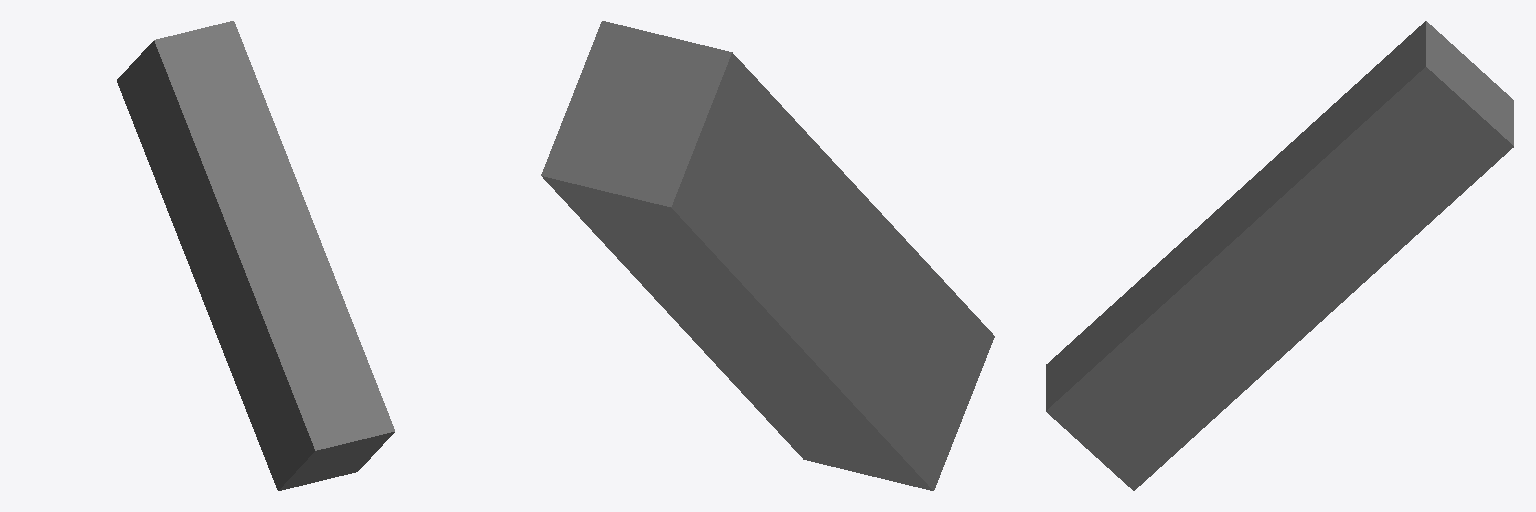
robot.urdf — franka:
<?xml version="1.0" encoding="utf-8"?>
<!--
The original version of this URDF was autogenerated by xacro from a modified version of
panda_arm_hand.urdf.xacro (and its included xacro files), found at
https://github.com/frankaemika/franka_ros/tree/0.6.0/franka_description/robots/

  Copyright (c) 2019-2025 NVIDIA CORPORATION & AFFILIATES. All rights reserved.
  Copyright (c) 2017 Franka Emika GmbH

  Licensed under the Apache License, Version 2.0 (the "License");
  you may not use this file except in compliance with the License.
  You may obtain a copy of the License at

  http://www.apache.org/licenses/LICENSE-2.0

  Unless required by applicable law or agreed to in writing, software
  distributed under the License is distributed on an "AS IS" BASIS,
  WITHOUT WARRANTIES OR CONDITIONS OF ANY KIND, either express or implied.
  See the License for the specific language governing permissions and
  limitations under the License.

Modifications:

2019-11-08 Generated from "lula_franka.urdf.xacro", modified to include links for a RealSense camera and custom mount.
2020-10-26 Modified kinematics so the parent of the "panda_forearm_mid_pt_shifted" joint is "panda_link5", rather than "panda_forearm_mid_pt".
2021-07-02 Expanded the upper and lower limits for "panda_joint7" from +/-1.8973 to +/-2.8973.
2023-08-28 Removed the "mimic" element linking "panda_finger_joint2" to "panda_finger_joint1".
2025-06-12 Modified mesh "filename" attributes to use relative paths rather than ROS package paths.
-->
<robot name="franka" xmlns:xacro="http://www.ros.org/wiki/xacro">
  <material name="aluminum">
    <color rgba="0.5 0.5 0.5 1"/>
  </material>
  <!-- camera body, with origin at bottom screw mount -->
  <joint name="camera_joint" type="fixed">
    <origin rpy="0 -1.57079632679 3.14159265359" xyz="0.0358116 0 0.0360562"/>
    <parent link="panda_hand"/>
    <child link="camera_bottom_screw_frame"/>
  </joint>
  <link name="camera_bottom_screw_frame"/>
  <joint name="camera_link_joint" type="fixed">
    <origin rpy="0 0 0" xyz="0 0.02 0.0115"/>
    <parent link="camera_bottom_screw_frame"/>
    <child link="camera_link"/>
  </joint>
  <link name="camera_link">
    <visual>
      <origin rpy="1.57079632679 0 1.57079632679" xyz="0.00987 -0.02 0"/>
      <geometry>
        <box size="0.099 0.023 0.02005"/>
        <!--<mesh filename="package://realsense2_camera/meshes/d415.stl" />-->
      </geometry>
      <material name="aluminum"/>
    </visual>
    <collision>
      <origin rpy="0 0 0" xyz="0 -0.02 0"/>
      <geometry>
        <box size="0.02005 0.099 0.023"/>
      </geometry>
    </collision>
    <inertial>
      <!-- The following are not reliable values, and should not be used for modeling -->
      <mass value="0.564"/>
      <origin xyz="0 0 0"/>
      <inertia ixx="0.003881243" ixy="0.0" ixz="0.0" iyy="0.000498940" iyz="0.0" izz="0.003879257"/>
    </inertial>
  </link>
  <!-- camera depth joints and links -->
  <joint name="camera_depth_joint" type="fixed">
    <origin rpy="0 0 0" xyz="0 0 0"/>
    <parent link="camera_link"/>
    <child link="camera_depth_frame"/>
  </joint>
  <link name="camera_depth_frame"/>
  <joint name="camera_depth_optical_joint" type="fixed">
    <origin rpy="-1.57079632679 0 -1.57079632679" xyz="0 0 0"/>
    <parent link="camera_depth_frame"/>
    <child link="camera_depth_optical_frame"/>
  </joint>
  <link name="camera_depth_optical_frame"/>
  <!-- camera left IR joints and links -->
  <joint name="camera_left_ir_joint" type="fixed">
    <origin rpy="0 0 0" xyz="0 0.0 0"/>
    <parent link="camera_depth_frame"/>
    <child link="camera_left_ir_frame"/>
  </joint>
  <link name="camera_left_ir_frame"/>
  <joint name="camera_left_ir_optical_joint" type="fixed">
    <origin rpy="-1.57079632679 0 -1.57079632679" xyz="0 0 0"/>
    <parent link="camera_left_ir_frame"/>
    <child link="camera_left_ir_optical_frame"/>
  </joint>
  <link name="camera_left_ir_optical_frame"/>
  <!-- camera right IR joints and links -->
  <joint name="camera_right_ir_joint" type="fixed">
    <origin rpy="0 0 0" xyz="0 -0.055 0"/>
    <parent link="camera_depth_frame"/>
    <child link="camera_right_ir_frame"/>
  </joint>
  <link name="camera_right_ir_frame"/>
  <joint name="camera_right_ir_optical_joint" type="fixed">
    <origin rpy="-1.57079632679 0 -1.57079632679" xyz="0 0 0"/>
    <parent link="camera_right_ir_frame"/>
    <child link="camera_right_ir_optical_frame"/>
  </joint>
  <link name="camera_right_ir_optical_frame"/>
  <!-- camera color joints and links -->
  <joint name="camera_color_joint" type="fixed">
    <origin rpy="0 0 0" xyz="0 0.015 0"/>
    <parent link="camera_depth_frame"/>
    <child link="camera_color_frame"/>
  </joint>
  <link name="camera_color_frame"/>
  <joint name="camera_color_optical_joint" type="fixed">
    <origin rpy="-1.57079632679 0 -1.57079632679" xyz="0 0 0"/>
    <parent link="camera_color_frame"/>
    <child link="camera_color_optical_frame"/>
  </joint>
  <link name="camera_color_optical_frame"/>
  <link name="panda_link0">
    <visual>
      <geometry>
        <mesh filename="meshes/panda_link0.stl"/>
      </geometry>
    </visual>
    <collision>
      <geometry>
        <mesh filename="meshes/panda_link0.stl"/>
      </geometry>
    </collision>
  </link>
  <link name="panda_link1">
    <visual>
      <geometry>
        <mesh filename="meshes/panda_link1.stl"/>
      </geometry>
    </visual>
    <collision>
      <geometry>
        <mesh filename="meshes/panda_link1.stl"/>
      </geometry>
    </collision>
  </link>
  <joint name="panda_joint1" type="revolute">
    <safety_controller k_position="100.0" k_velocity="40.0" soft_lower_limit="-2.8973" soft_upper_limit="2.8973"/>
    <origin rpy="0 0 0" xyz="0 0 0.333"/>
    <parent link="panda_link0"/>
    <child link="panda_link1"/>
    <axis xyz="0 0 1"/>
    <limit effort="87" lower="-2.8973" upper="2.8973" velocity="2.1750"/>
  </joint>
  <link name="panda_link2">
    <visual>
      <geometry>
        <mesh filename="meshes/panda_link2.stl"/>
      </geometry>
    </visual>
    <collision>
      <geometry>
        <mesh filename="meshes/panda_link2.stl"/>
      </geometry>
    </collision>
  </link>
  <joint name="panda_joint2" type="revolute">
    <safety_controller k_position="100.0" k_velocity="40.0" soft_lower_limit="-1.7628" soft_upper_limit="1.7628"/>
    <origin rpy="-1.57079632679 0 0" xyz="0 0 0"/>
    <parent link="panda_link1"/>
    <child link="panda_link2"/>
    <axis xyz="0 0 1"/>
    <limit effort="87" lower="-1.7628" upper="1.7628" velocity="2.1750"/>
  </joint>
  <link name="panda_link3">
    <visual>
      <geometry>
        <mesh filename="meshes/panda_link3.stl"/>
      </geometry>
    </visual>
    <collision>
      <geometry>
        <mesh filename="meshes/panda_link3.stl"/>
      </geometry>
    </collision>
  </link>
  <joint name="panda_joint3" type="revolute">
    <safety_controller k_position="100.0" k_velocity="40.0" soft_lower_limit="-2.8973" soft_upper_limit="2.8973"/>
    <origin rpy="1.57079632679 0 0" xyz="0 -0.316 0"/>
    <parent link="panda_link2"/>
    <child link="panda_link3"/>
    <axis xyz="0 0 1"/>
    <limit effort="87" lower="-2.8973" upper="2.8973" velocity="2.1750"/>
  </joint>
  <link name="panda_link4">
    <visual>
      <geometry>
        <mesh filename="meshes/panda_link4.stl"/>
      </geometry>
    </visual>
    <collision>
      <geometry>
        <mesh filename="meshes/panda_link4.stl"/>
      </geometry>
    </collision>
  </link>
  <joint name="panda_joint4" type="revolute">
    <safety_controller k_position="100.0" k_velocity="40.0" soft_lower_limit="-3.0718" soft_upper_limit="-0.0698"/>
    <origin rpy="1.57079632679 0 0" xyz="0.0825 0 0"/>
    <parent link="panda_link3"/>
    <child link="panda_link4"/>
    <axis xyz="0 0 1"/>
    <limit effort="87" lower="-3.0718" upper="-0.0698" velocity="2.1750"/>
  </joint>
  <link name="panda_link5">
    <visual>
      <geometry>
        <mesh filename="meshes/panda_link5.stl"/>
      </geometry>
    </visual>
    <collision>
      <geometry>
        <mesh filename="meshes/panda_link5.stl"/>
      </geometry>
    </collision>
  </link>
  <joint name="panda_joint5" type="revolute">
    <safety_controller k_position="100.0" k_velocity="40.0" soft_lower_limit="-2.8973" soft_upper_limit="2.8973"/>
    <origin rpy="-1.57079632679 0 0" xyz="-0.0825 0.384 0"/>
    <parent link="panda_link4"/>
    <child link="panda_link5"/>
    <axis xyz="0 0 1"/>
    <limit effort="12" lower="-2.8973" upper="2.8973" velocity="2.6100"/>
  </joint>
  <link name="panda_link6">
    <visual>
      <geometry>
        <mesh filename="meshes/panda_link6.stl"/>
      </geometry>
    </visual>
    <collision>
      <geometry>
        <mesh filename="meshes/panda_link6.stl"/>
      </geometry>
    </collision>
  </link>
  <joint name="panda_joint6" type="revolute">
    <safety_controller k_position="100.0" k_velocity="40.0" soft_lower_limit="-0.0175" soft_upper_limit="3.7525"/>
    <origin rpy="1.57079632679 0 0" xyz="0 0 0"/>
    <parent link="panda_link5"/>
    <child link="panda_link6"/>
    <axis xyz="0 0 1"/>
    <limit effort="12" lower="-0.0175" upper="3.7525" velocity="2.6100"/>
  </joint>
  <link name="panda_link7">
    <visual>
      <geometry>
        <mesh filename="meshes/panda_link7.stl"/>
      </geometry>
    </visual>
    <collision>
      <geometry>
        <mesh filename="meshes/panda_link7.stl"/>
      </geometry>
    </collision>
  </link>
  <joint name="panda_joint7" type="revolute">
    <safety_controller k_position="100.0" k_velocity="40.0" soft_lower_limit="-2.8973" soft_upper_limit="2.8973"/>
    <origin rpy="1.57079632679 0 0" xyz="0.088 0 0"/>
    <parent link="panda_link6"/>
    <child link="panda_link7"/>
    <axis xyz="0 0 1"/>
    <limit effort="12" lower="-2.8973" upper="2.8973" velocity="2.6100"/>
  </joint>
  <link name="panda_link8"/>
  <joint name="panda_joint8" type="fixed">
    <origin rpy="0 0 0" xyz="0 0 0.107"/>
    <parent link="panda_link7"/>
    <child link="panda_link8"/>
    <axis xyz="0 0 0"/>
  </joint>
  <joint name="panda_hand_joint" type="fixed">
    <parent link="panda_link8"/>
    <child link="panda_hand"/>
    <origin rpy="0 0 -0.785398163397" xyz="0 0 0"/>
  </joint>
  <link name="panda_hand">
    <visual>
      <geometry>
        <mesh filename="meshes/panda_hand.stl"/>
      </geometry>
    </visual>
    <collision>
      <geometry>
        <mesh filename="meshes/panda_hand.stl"/>
      </geometry>
    </collision>
  </link>
  <link name="panda_leftfinger">
    <visual>
      <geometry>
        <mesh filename="meshes/panda_leftfinger.stl"/>
      </geometry>
    </visual>
    <collision>
      <geometry>
        <mesh filename="meshes/panda_leftfinger.stl"/>
      </geometry>
    </collision>
  </link>
  <link name="panda_rightfinger">
    <visual>
      <geometry>
        <mesh filename="meshes/panda_rightfinger.stl"/>
      </geometry>
    </visual>
    <collision>
      <geometry>
        <mesh filename="meshes/panda_rightfinger.stl"/>
      </geometry>
    </collision>
  </link>
  <joint name="panda_finger_joint1" type="prismatic">
    <parent link="panda_hand"/>
    <child link="panda_leftfinger"/>
    <origin rpy="0 0 0" xyz="0 0 0.0584"/>
    <axis xyz="0 1 0"/>
    <limit effort="20" lower="0.0" upper="0.04" velocity="0.2"/>
  </joint>
  <joint name="panda_finger_joint2" type="prismatic">
    <parent link="panda_hand"/>
    <child link="panda_rightfinger"/>
    <origin rpy="0 0 0" xyz="0 0 0.0584"/>
    <axis xyz="0 -1 0"/>
    <limit effort="20" lower="0.0" upper="0.04" velocity="0.2"/>
  </joint>
  <link name="base_link"/>
  <joint name="base_link_robot" type="fixed">
    <origin rpy="0 0 0" xyz="0.0 0.0 0.0"/>
    <axis xyz="0 0 1"/>
    <parent link="base_link"/>
    <child link="panda_link0"/>
  </joint>
  <link name="right_gripper"/>
  <joint name="right_gripper" type="fixed">
    <origin rpy="0 0 2.35619449019" xyz="0.0 0 0.1"/>
    <axis xyz="0 0 1"/>
    <parent link="panda_link8"/>
    <child link="right_gripper"/>
  </joint>
  <link name="panda_rightfingertip"/>
  <joint name="panda_rightfingertip" type="fixed">
    <origin rpy="0 0 3.14159265359" xyz="0.0 0 0.045"/>
    <axis xyz="0 0 1"/>
    <parent link="panda_rightfinger"/>
    <child link="panda_rightfingertip"/>
  </joint>
  <link name="panda_leftfingertip"/>
  <joint name="panda_leftfingertip" type="fixed">
    <origin rpy="0 0 3.14159265359" xyz="0.0 0 0.045"/>
    <axis xyz="0 0 1"/>
    <parent link="panda_leftfinger"/>
    <child link="panda_leftfingertip"/>
  </joint>
  <link name="panda_forearm_end_pt"/>
  <joint name="panda_forearm_end_pt" type="fixed">
    <origin rpy="0 0 0.0" xyz="-0.09 0.02 0.0"/>
    <axis xyz="0 0 1"/>
    <parent link="panda_link4"/>
    <child link="panda_forearm_end_pt"/>
  </joint>
  <link name="panda_forearm_mid_pt"/>
  <joint name="panda_forearm_mid_pt" type="fixed">
    <origin rpy="0 0 0" xyz="0.0 0.175 0.0"/>
    <axis xyz="0 0 1"/>
    <parent link="panda_forearm_end_pt"/>
    <child link="panda_forearm_mid_pt"/>
  </joint>
  <link name="panda_forearm_mid_pt_shifted"/>
  <joint name="panda_forearm_mid_pt_shifted" type="fixed">
    <origin rpy="0 0 0" xyz="-0.0075 0.05 -0.189"/>
    <axis xyz="0 0 1"/>
    <parent link="panda_link5"/>
    <child link="panda_forearm_mid_pt_shifted"/>
  </joint>
  <link name="panda_forearm_distal"/>
  <joint name="panda_forearm_distal" type="fixed">
    <origin rpy="0 0 0" xyz="0.0 0.1 0.0"/>
    <axis xyz="0 0 1"/>
    <parent link="panda_link5"/>
    <child link="panda_forearm_distal"/>
  </joint>
  <link name="panda_wrist_end_pt"/>
  <joint name="panda_wrist_end_pt" type="fixed">
    <origin rpy="0 0 0.0" xyz="0.0 0.0 -0.07"/>
    <axis xyz="0 0 1"/>
    <parent link="panda_link7"/>
    <child link="panda_wrist_end_pt"/>
  </joint>
  <link name="panda_face_left"/>
  <joint name="panda_face_left" type="fixed">
    <origin rpy="0 0 0" xyz="0.0 0.07 0.04"/>
    <axis xyz="0 0 1"/>
    <parent link="panda_hand"/>
    <child link="panda_face_left"/>
  </joint>
  <link name="panda_face_right"/>
  <joint name="panda_face_right" type="fixed">
    <origin rpy="0 0 0" xyz="0.0 -0.07 0.04"/>
    <axis xyz="0 0 1"/>
    <parent link="panda_hand"/>
    <child link="panda_face_right"/>
  </joint>
  <link name="panda_face_back_left"/>
  <joint name="panda_face_back_left" type="fixed">
    <origin rpy="0 0 0" xyz="0.0 0.07 0.0"/>
    <axis xyz="0 0 1"/>
    <parent link="panda_hand"/>
    <child link="panda_face_back_left"/>
  </joint>
  <link name="panda_face_back_right"/>
  <joint name="panda_face_back_right" type="fixed">
    <origin rpy="0 0 0" xyz="0.0 -0.07 0.0"/>
    <axis xyz="0 0 1"/>
    <parent link="panda_hand"/>
    <child link="panda_face_back_right"/>
  </joint>
  <!--<link name="left_gripper"/>
  <joint name="left_gripper" type="fixed">
    <origin rpy="0 0 ${pi/2}" xyz="0 0 0.13"/>
    <axis xyz="0 0 1"/>
    <parent link="gripper_l_base"/>
    <child link="left_gripper"/>
  </joint>
  -->
</robot>

--- Render facts (derived) ---
The picture shows the robot from 3 angles, left to right: view 1: azimuth 30°, elevation 25°; view 2: azimuth 150°, elevation 25°; view 3: azimuth 270°, elevation 25°; orthographic projection.
Robot: franka — 35 links, 34 joints (7 revolute, 2 prismatic, 25 fixed); root link base_link; default pose: joints at zero except 1 at the middle of their limits (panda_joint4 = -1.57).
Links seen in each view (by area): view 1: camera_link; view 2: camera_link; view 3: camera_link.
Boxes of the visible links, x1,y1,x2,y2 form: camera_link: (117, 21, 394, 490); camera_link: (541, 21, 994, 490); camera_link: (1046, 21, 1513, 490).
Bounding box of the posed robot: 0.0201 × 0.0863 × 0.0863 m (x, y, z).
0 mesh visuals loaded from 11 distinct referenced files (none loaded); not drawn: 1 (reference not matched to a file when rendering), 10 (file found but could not be loaded).